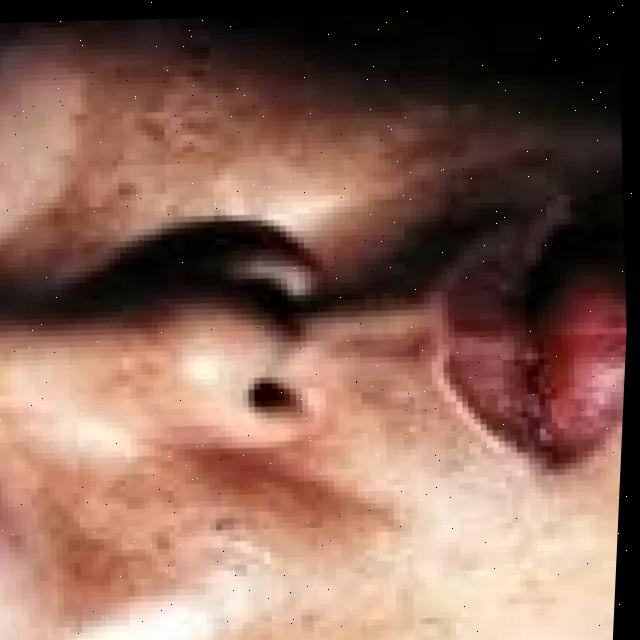Melasma: (57, 3, 439, 251), (45, 433, 323, 640)
